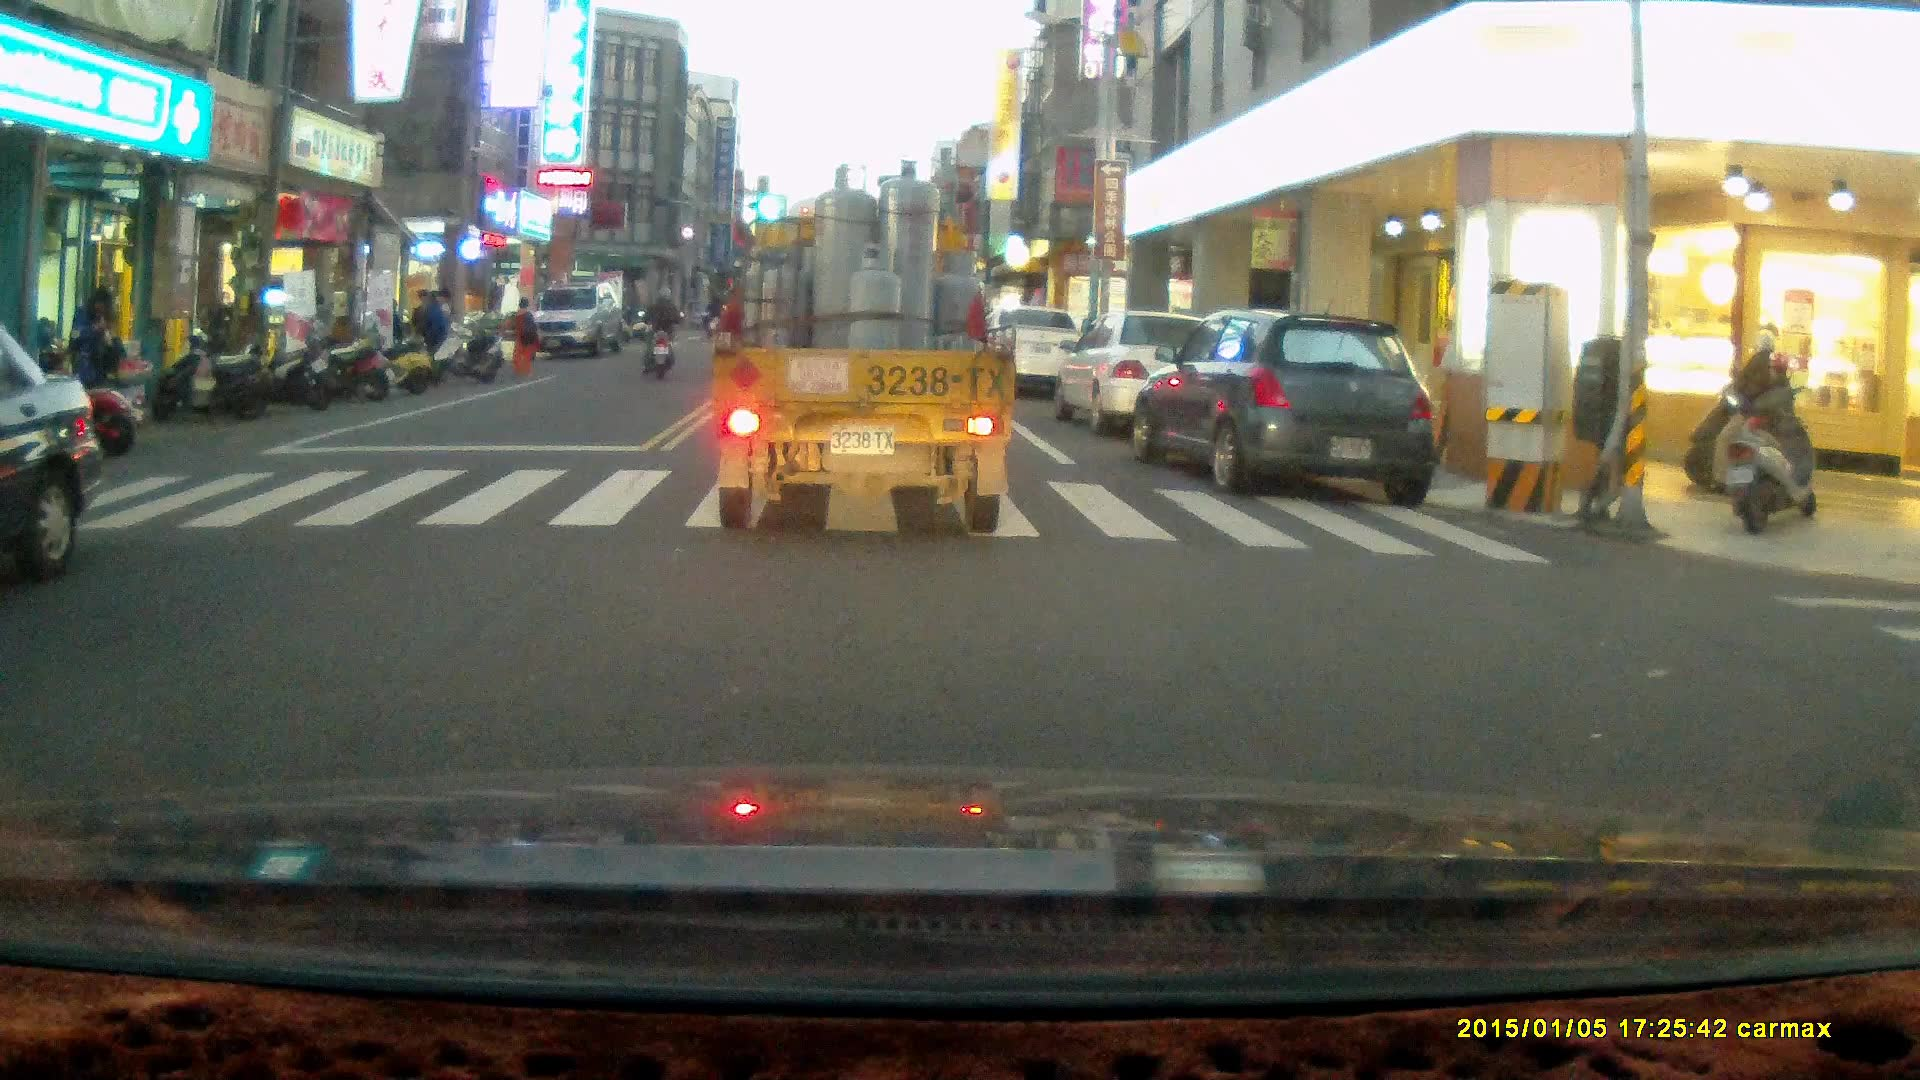pedestrian: (65, 280, 127, 407), (417, 285, 454, 376), (210, 288, 240, 378), (509, 294, 539, 374)
rider: (1681, 327, 1809, 504), (634, 280, 682, 376)
vehicle: (713, 156, 1020, 537), (1131, 309, 1447, 502), (1, 315, 111, 578), (1060, 307, 1241, 432), (977, 305, 1102, 403), (527, 282, 627, 358)
